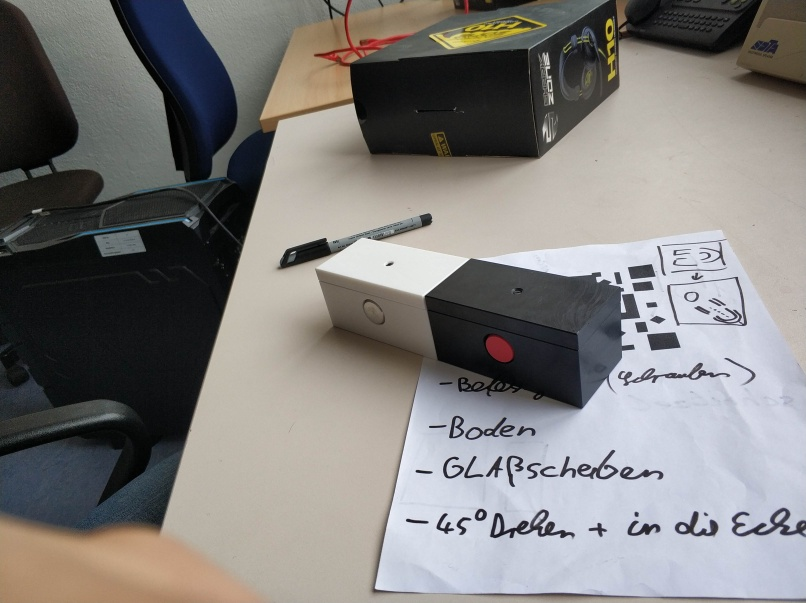black+black+red: (422, 258, 624, 411)
white+white+silver: (310, 236, 471, 363)
